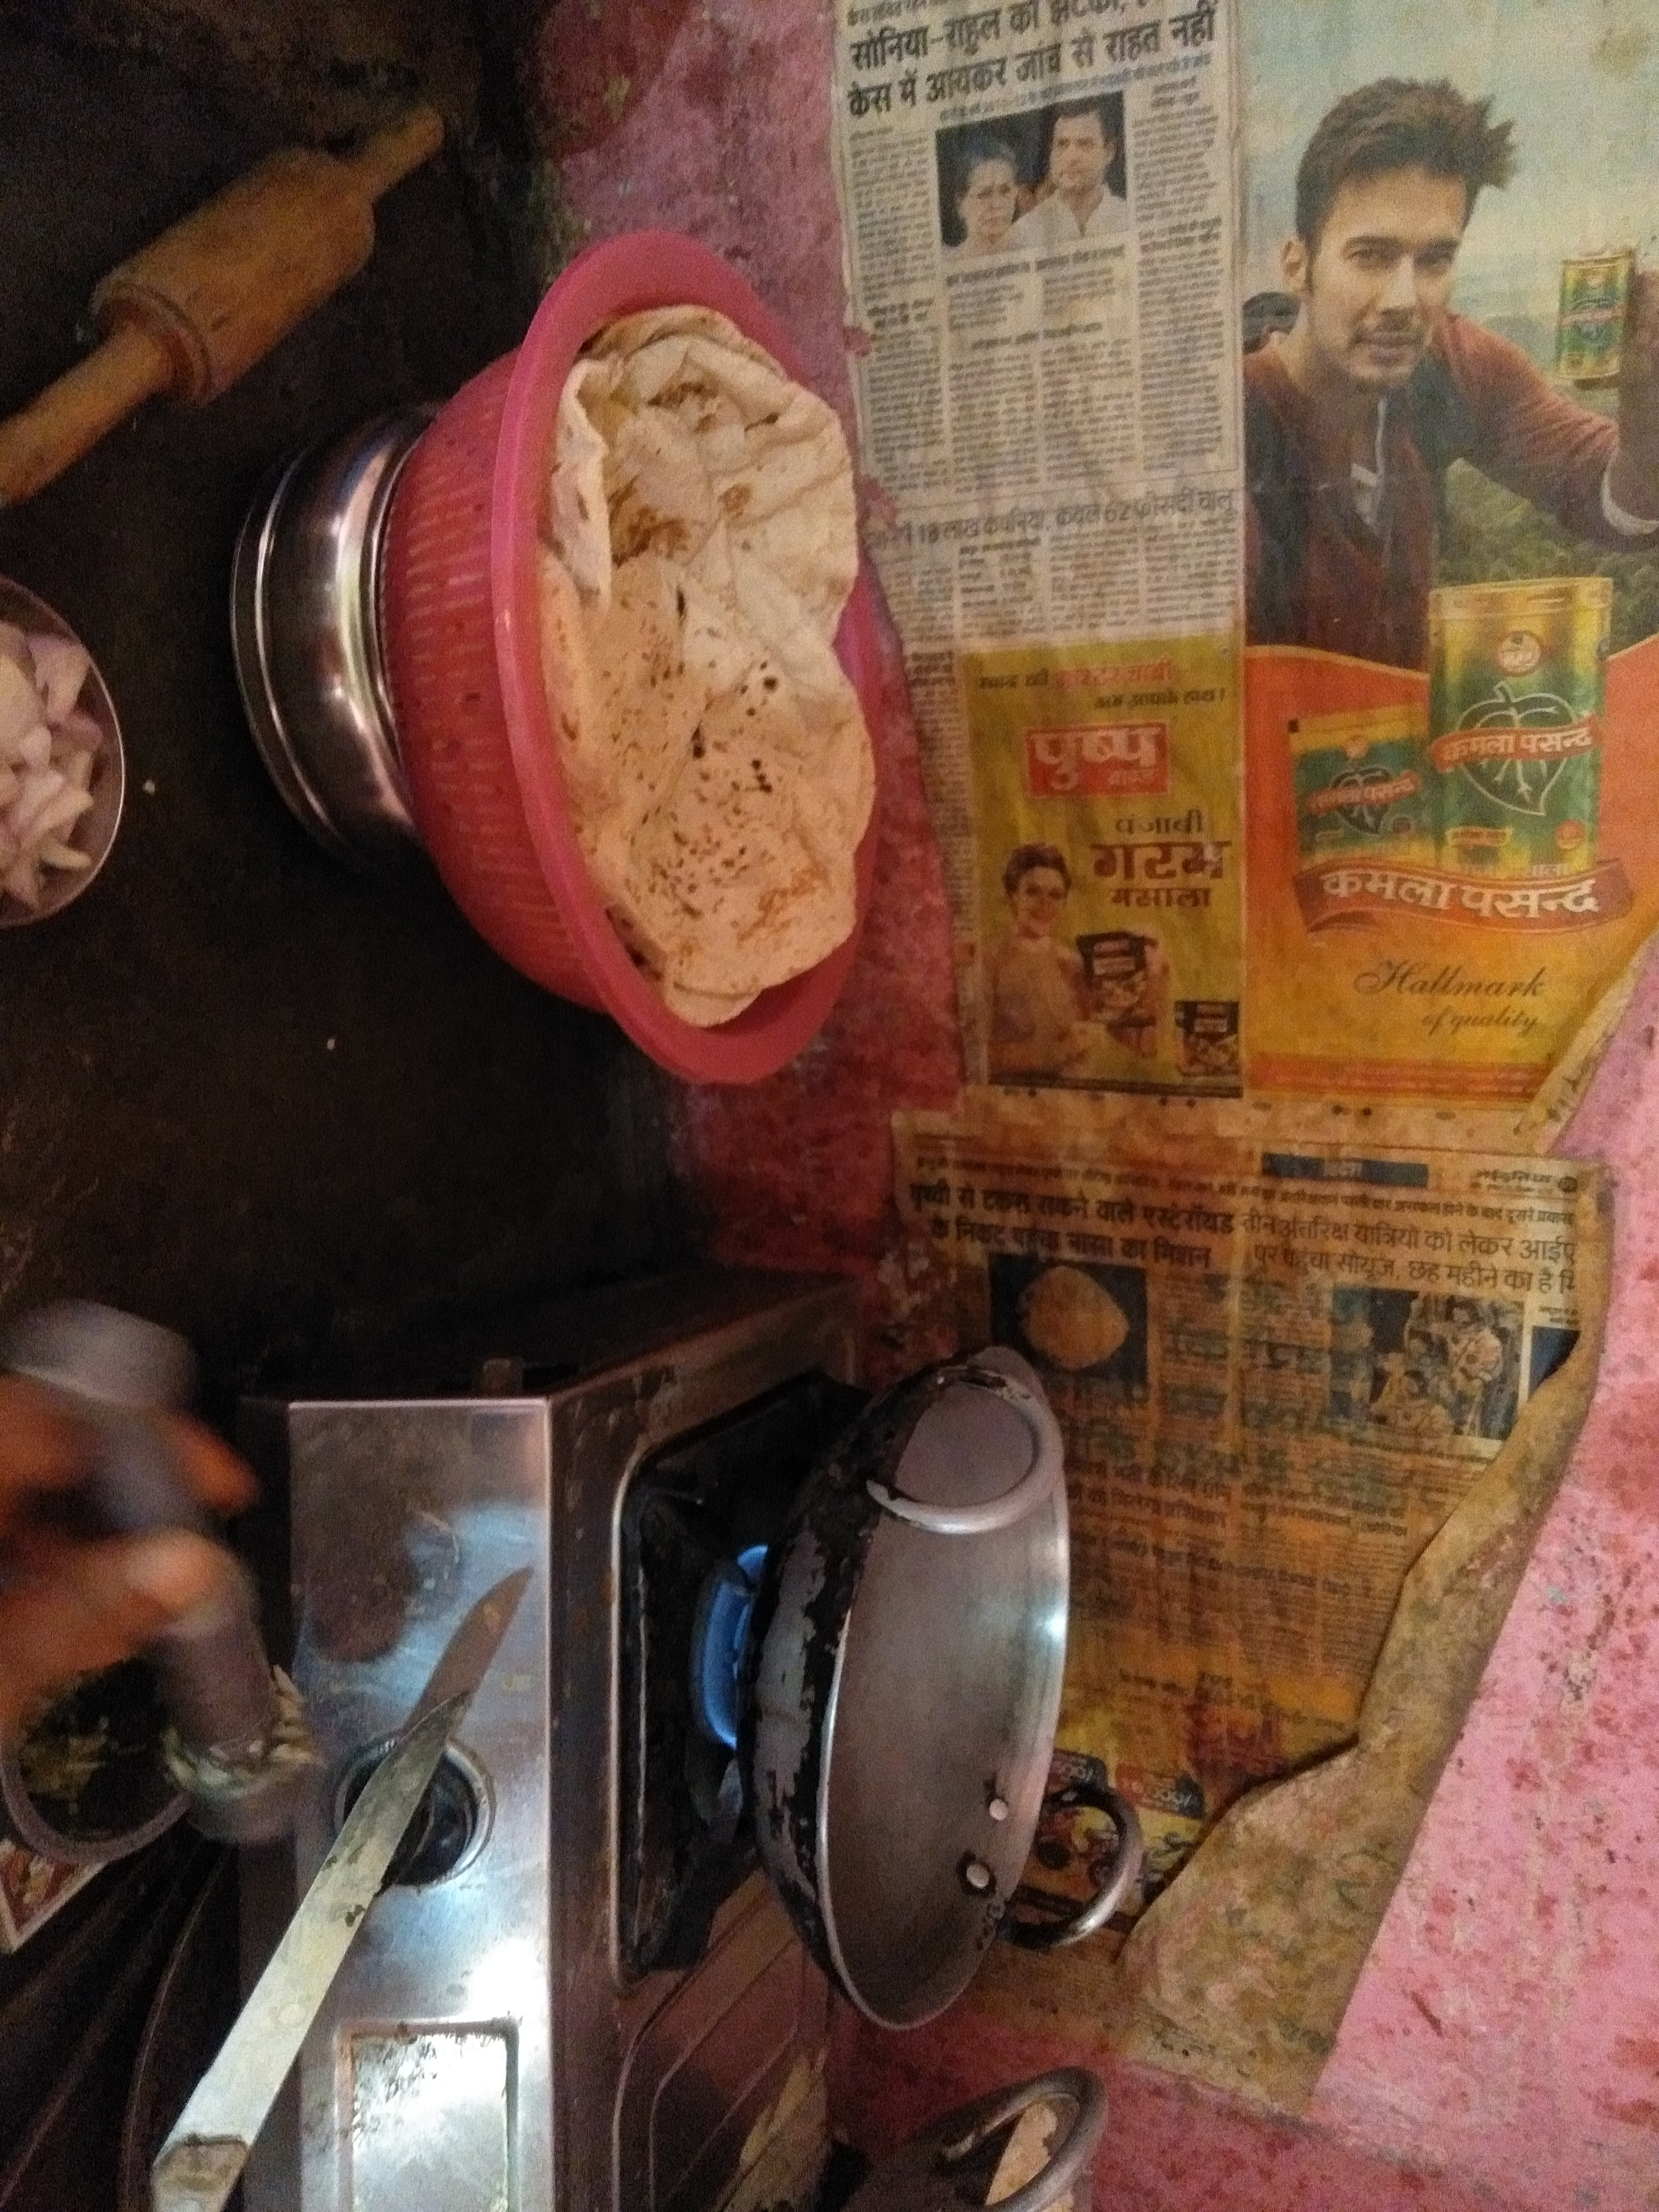food: (526, 286, 887, 1043), (3, 599, 120, 914)
